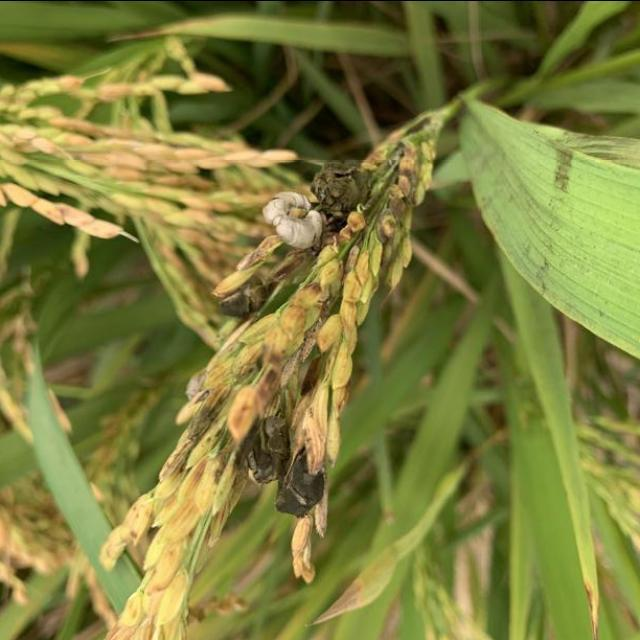Leaf_Scald: (261, 161, 371, 249), (245, 414, 326, 516), (215, 266, 269, 320)
